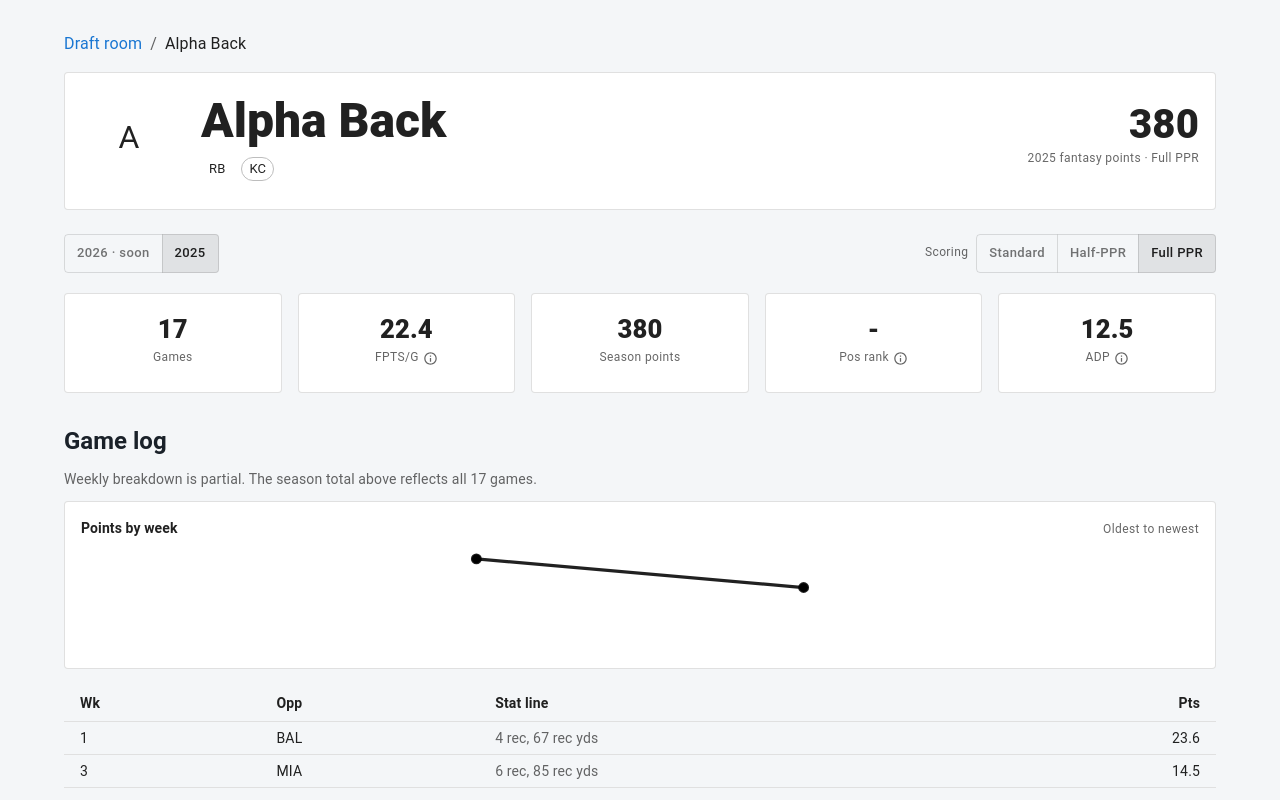
Test: preserves Draft origin and league context while changing profile seasons
Expected: the heading "Alpha Back" is shown, [201, 92, 446, 149]
Click the button "2026 · soon": (113, 253) [64, 234, 162, 273]
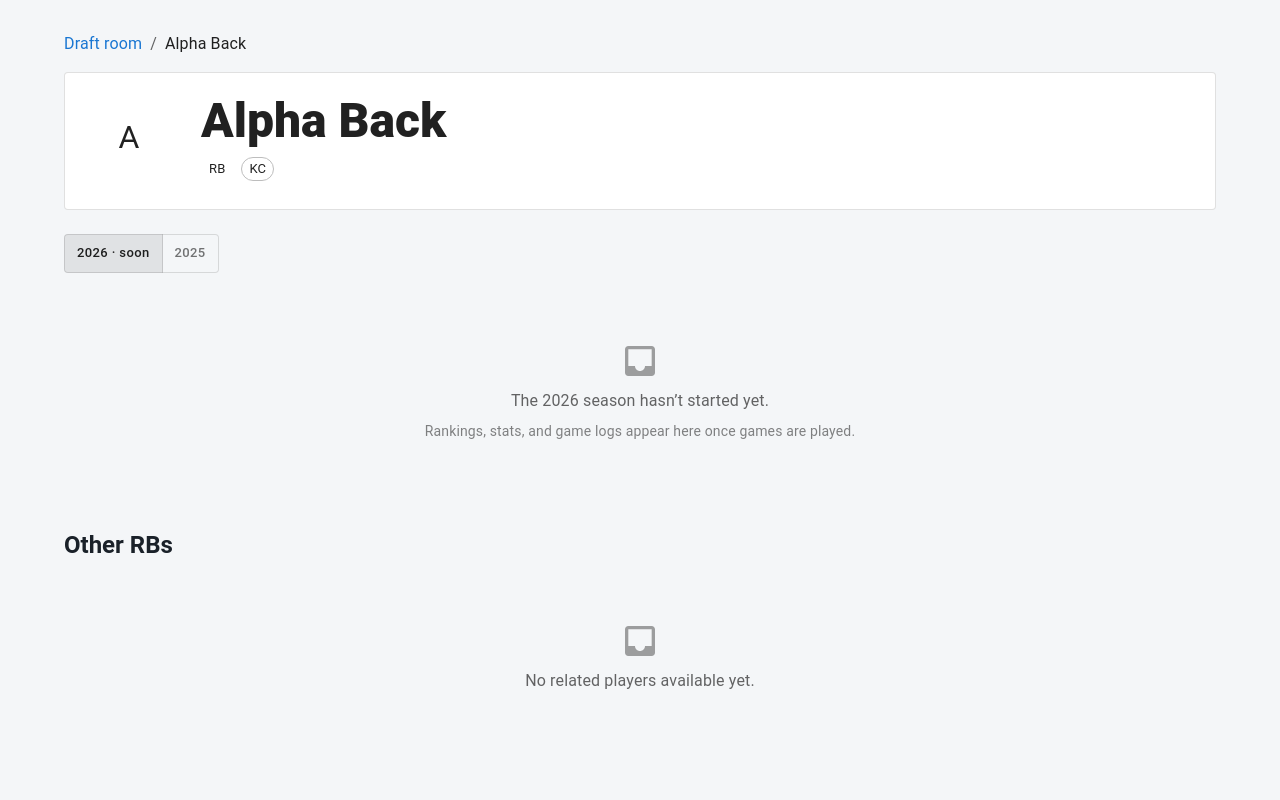
Expected: the link "Draft room" is shown, [64, 34, 142, 53]
Now the text "The 2026 season hasn’t started yet." is shown, box [511, 389, 769, 413]
